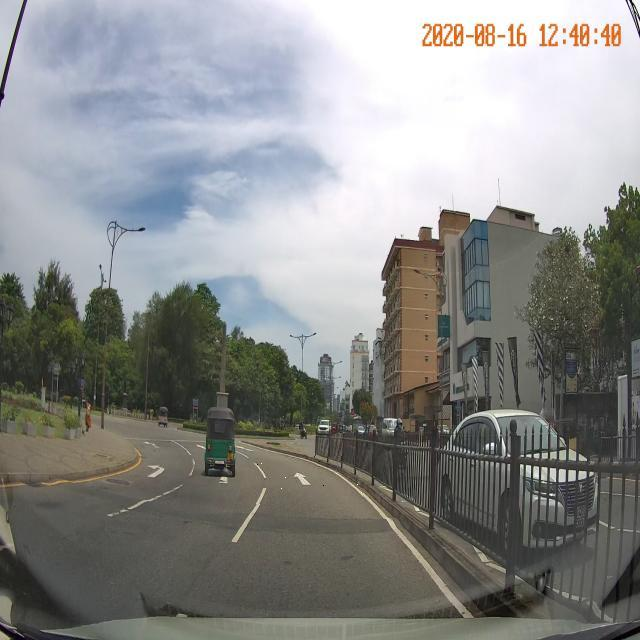forward: (253, 456, 363, 504)
